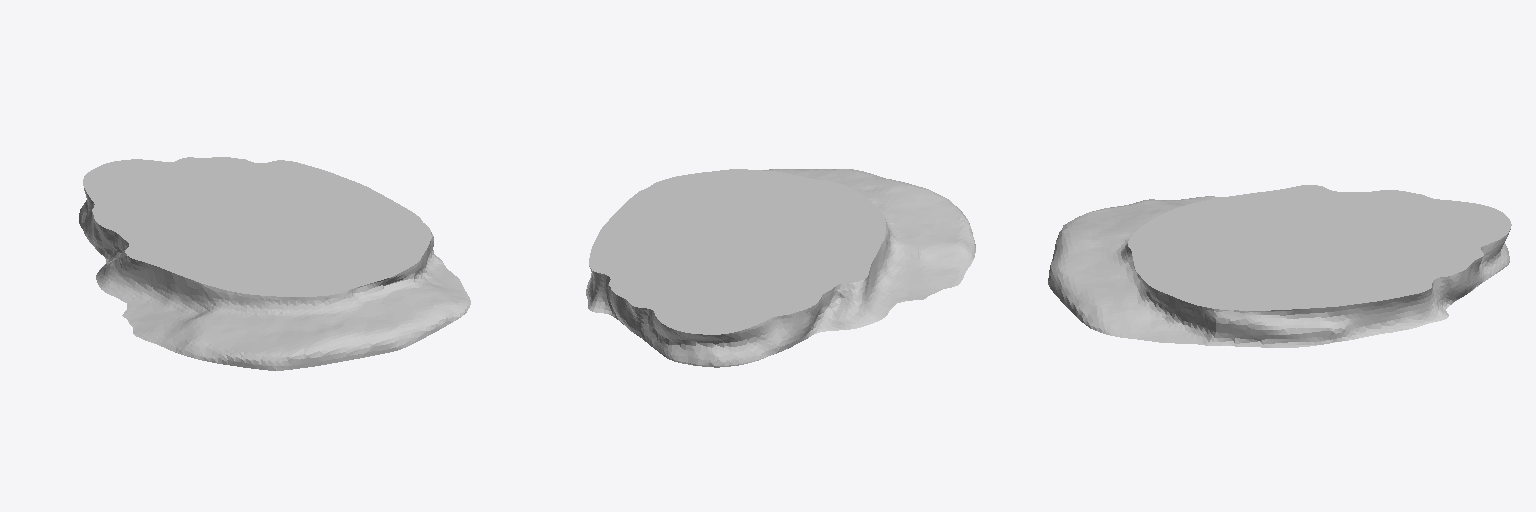
3 renders of one model, left to right at view 1: azimuth 30°, elevation 25°; view 2: azimuth 150°, elevation 25°; view 3: azimuth 270°, elevation 25°, orthographic.
Visible parts, largest first — view 1: low.013_Fotogrametria_MarioGomes_V01_Model_2.014; view 2: low.013_Fotogrametria_MarioGomes_V01_Model_2.014; view 3: low.013_Fotogrametria_MarioGomes_V01_Model_2.014.
Boxes of the visible parts, x1,y1,x2,y2 form: low.013_Fotogrametria_MarioGomes_V01_Model_2.014: [79, 157, 470, 370]; low.013_Fotogrametria_MarioGomes_V01_Model_2.014: [586, 169, 975, 367]; low.013_Fotogrametria_MarioGomes_V01_Model_2.014: [1048, 185, 1511, 347].
Size of the model in its own units: 2.04 by 0.2019 by 2.62.